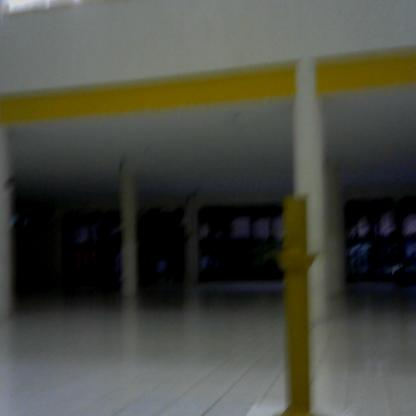pole: (267, 187, 325, 416)
